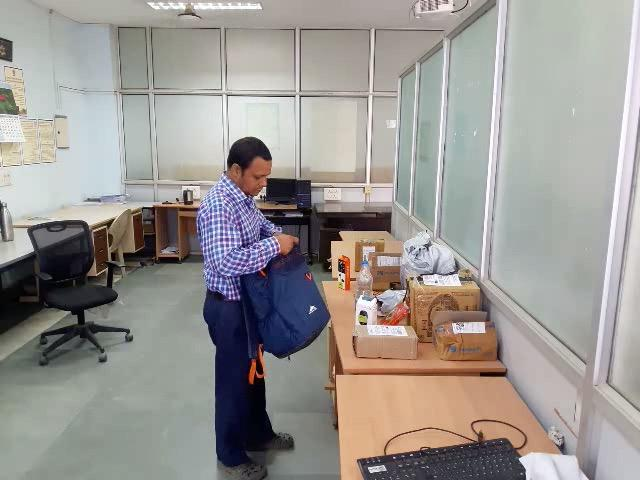shoplifting: (203, 211, 344, 373)
